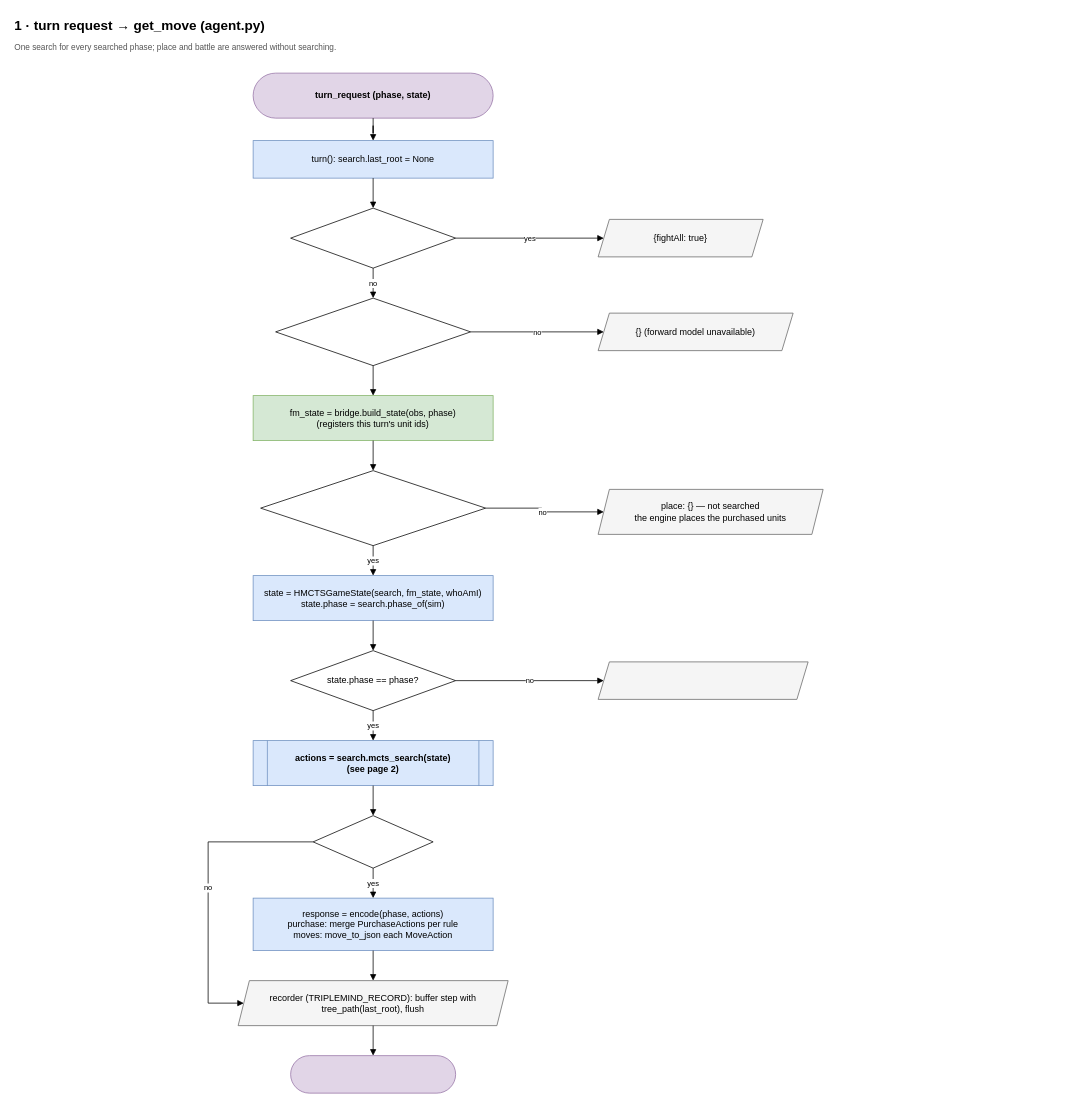
Image size: 1091x1106. Some labels were removed from this diagram. Each missing label, with the centre of its shape:
"actions?" goes at (x=372, y=841).
"bridge built and phase in PHASE_KINDS?" goes at (x=373, y=331).
"phase == battle?" goes at (x=373, y=237).
"phase in SEARCHED_PHASES? (purchase / combatMove / nonCombatMove)" goes at (x=373, y=508).
"response → stdout" goes at (x=373, y=1074).
"{} (log: model not at that decision)" goes at (x=702, y=680).
